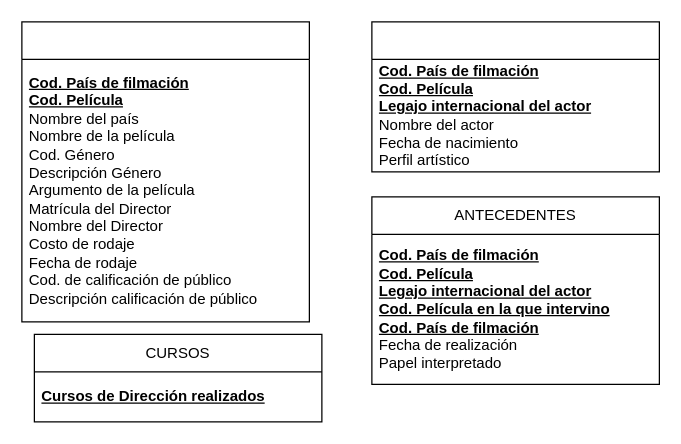
Image size: 681x444. Some labels were removed from this diagram. Each missing label, with the box of its shape:
ACTORES: (371, 21, 659, 172)
PELICULAS: (21, 21, 309, 322)
